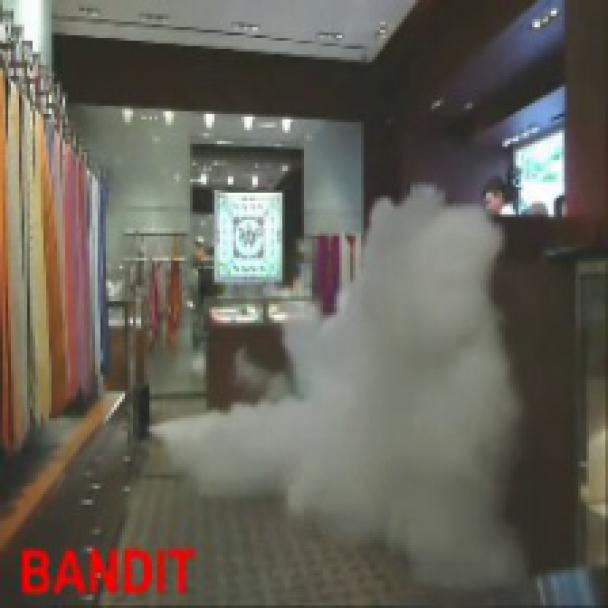smoke: (179, 184, 555, 580)
